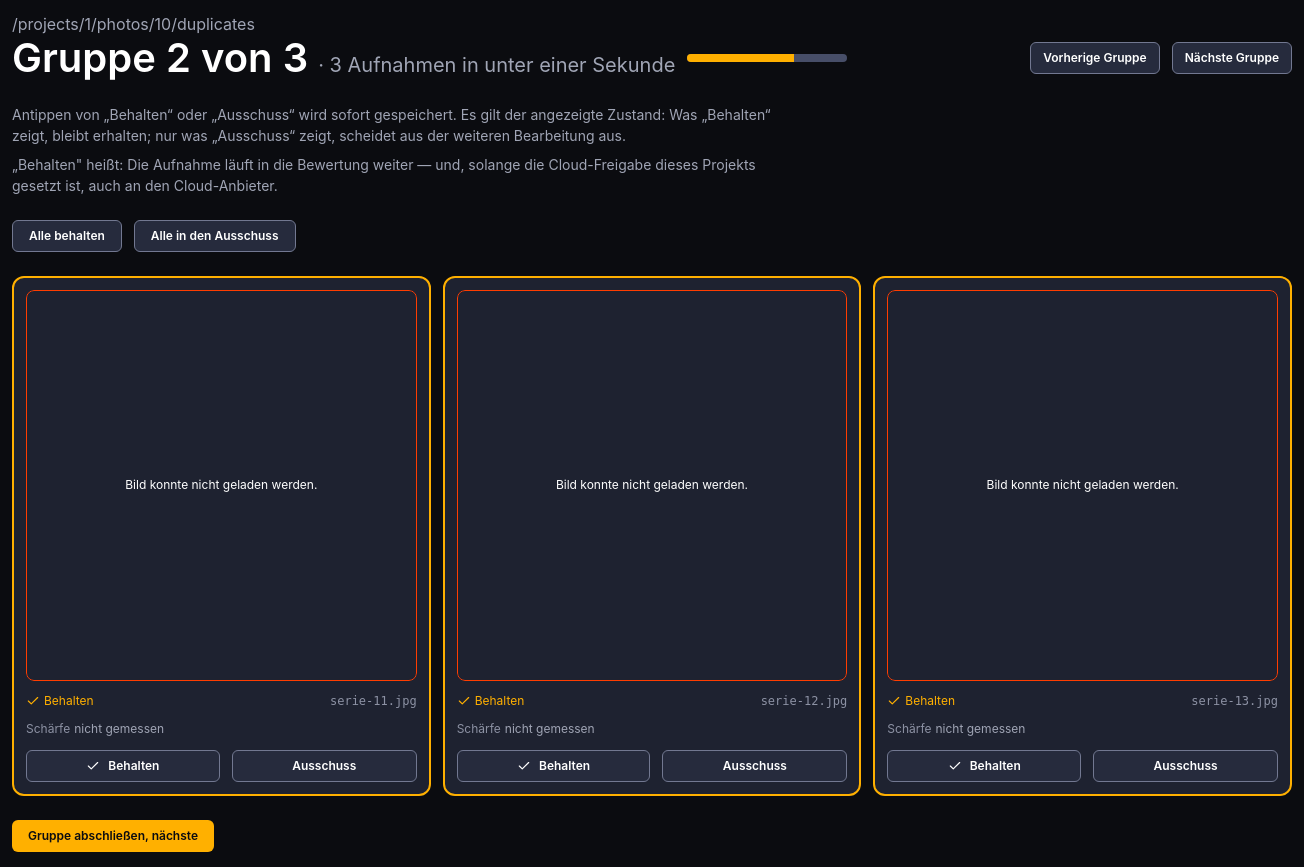
Scenario: DuplicateComparePage - die Gruppennavigation › traegt Namen, die sich nicht mit dem Blaettern INNERHALB der Gruppe ueberschneiden
The image size is (1304, 867).
Click the button with aria-label "Reise/serie-12.jpg vergrößern": x=652, y=485 [457,290,847,681]
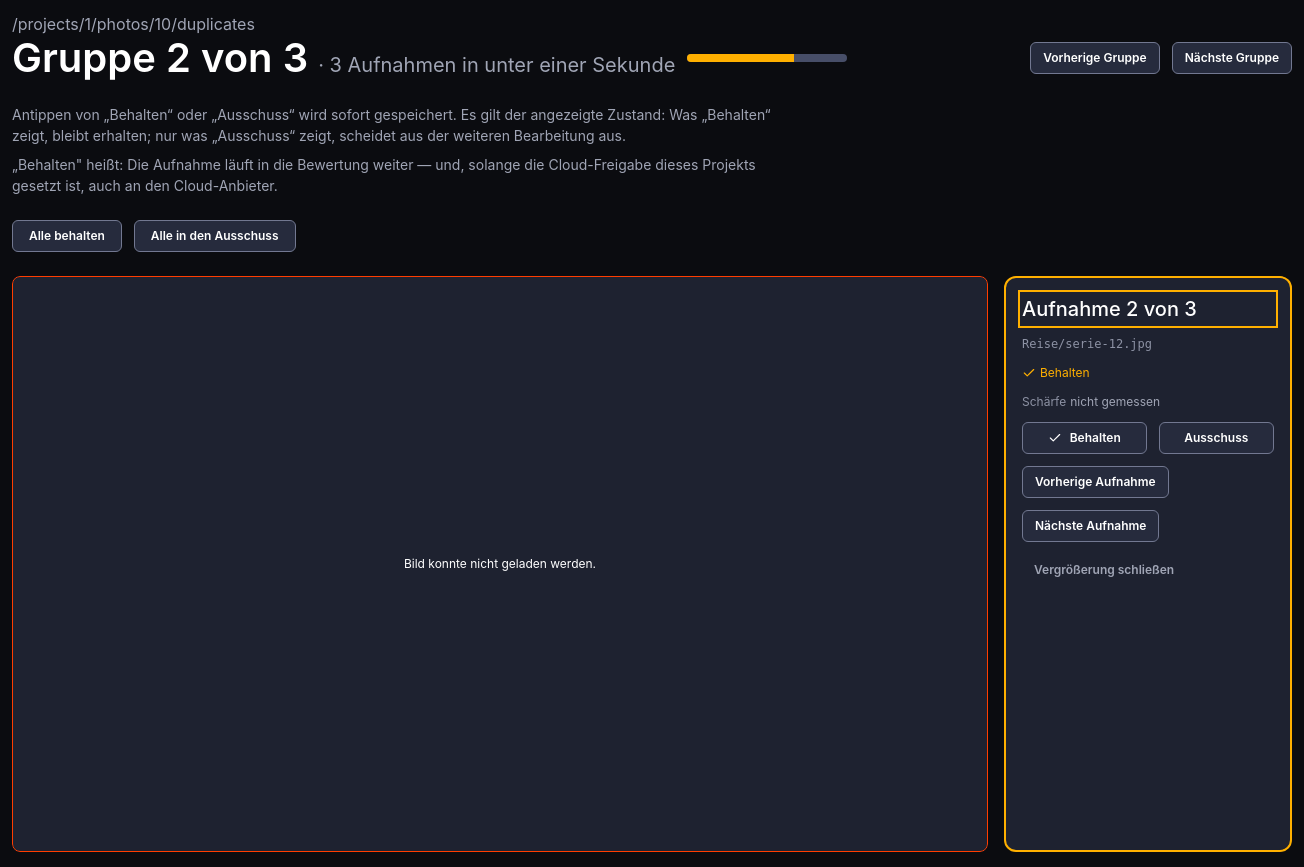
Expected: the number of buttons "Vorherige Gruppe" is 1, [1030,42,1160,74]
Result: the number of buttons "Vorherige Aufnahme" is 1 at [1022,466,1169,498]
Result: the number of buttons "Nächste Aufnahme" is 1 at [1022,510,1159,542]
